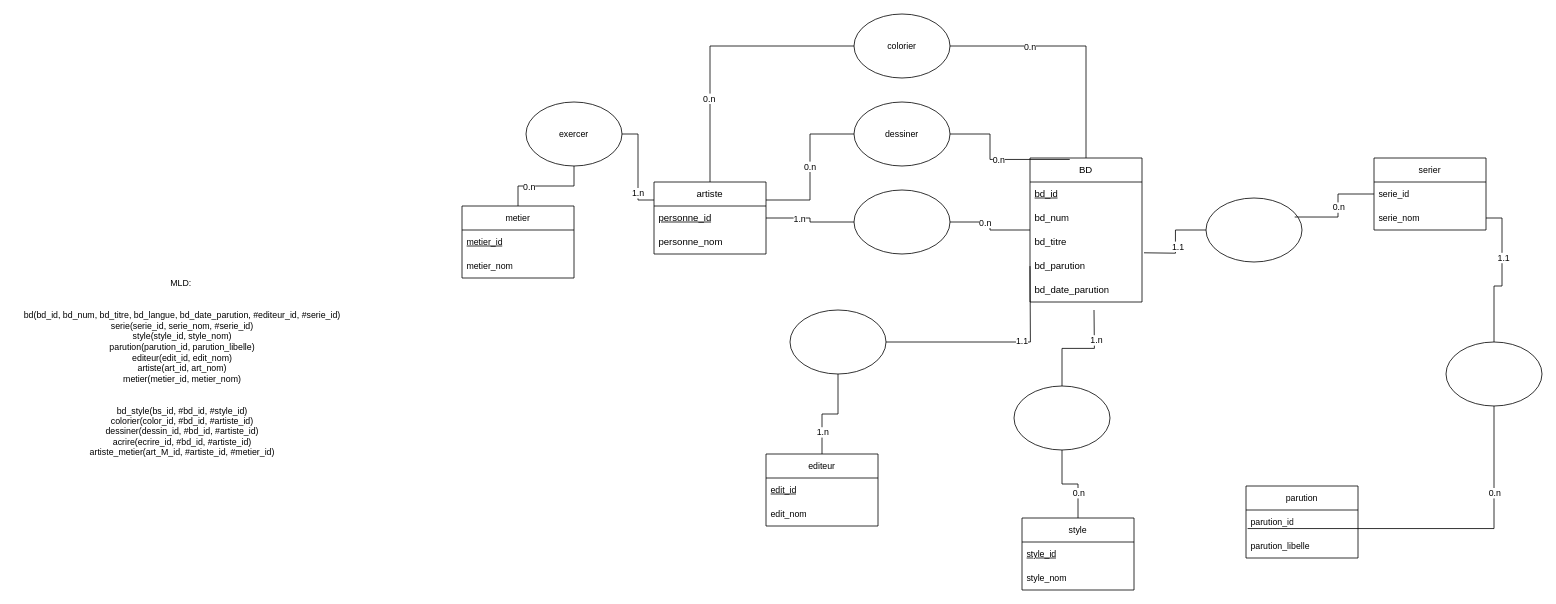
This 1556x604 diagram has some shape labels left out. The shapes that lost their labels are listed below. From the top down, each one's centre as x and y in pixels, then its label:
At (901,221): "ecrire".
At (1253,229): "appartenir".
At (837,341): "editer".
At (1493,373): "paraître".
At (1061,417): "être".
